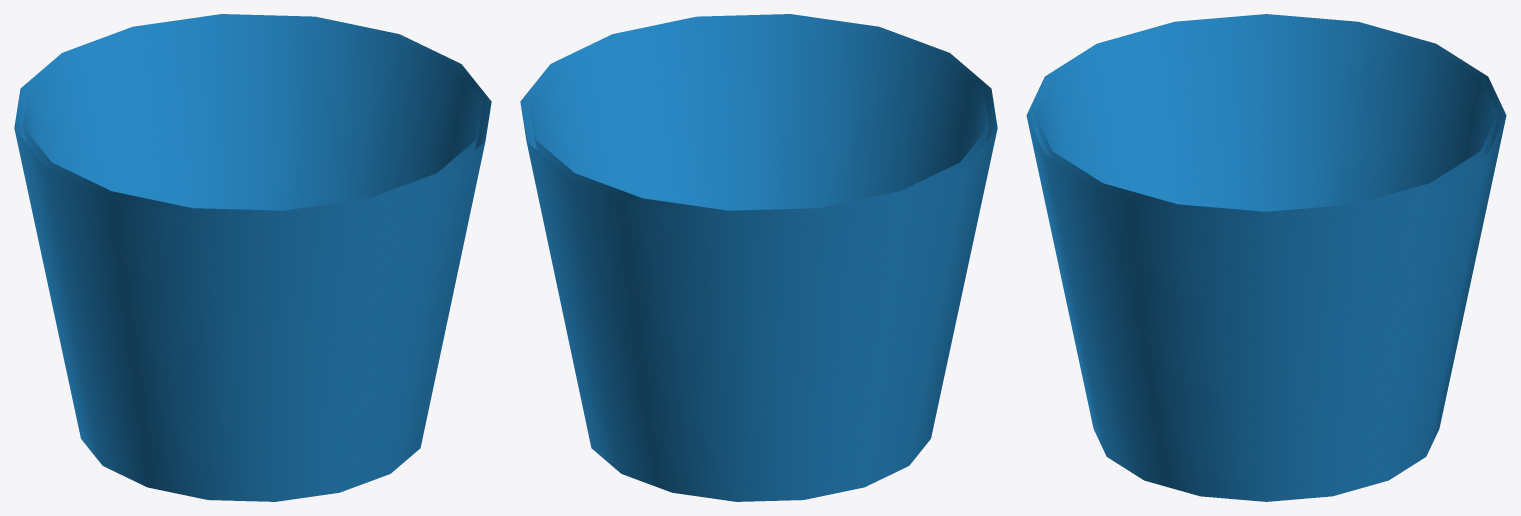
Rendered from Light.fbx.
The picture shows the model from 3 angles, left to right: view 1: azimuth 30°, elevation 25°; view 2: azimuth 150°, elevation 25°; view 3: azimuth 270°, elevation 25°; orthographic projection.
Visible parts, largest first — view 1: Cylinder.003; view 2: Cylinder.003; view 3: Cylinder.003.
Boxes of the visible parts, x1,y1,x2,y2 form: Cylinder.003: (14, 14, 491, 501); Cylinder.003: (520, 14, 997, 501); Cylinder.003: (1026, 14, 1506, 501).
Bounding box in the file's own units: 278 × 201 × 278.
